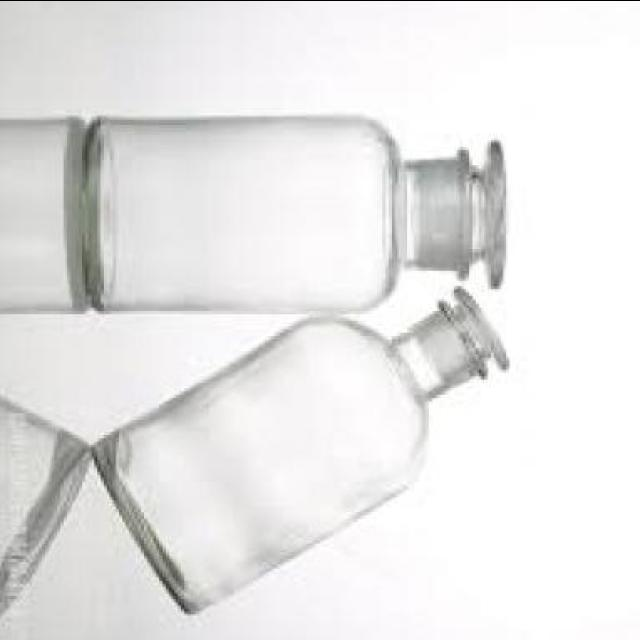kaca: (94, 284, 512, 608), (82, 112, 509, 314)
